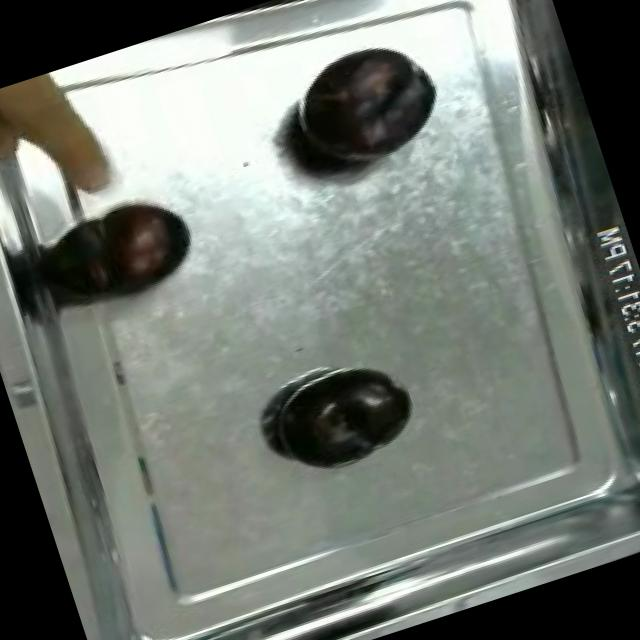Fruit: (266, 26, 455, 190), (260, 353, 427, 486), (76, 179, 208, 307)
